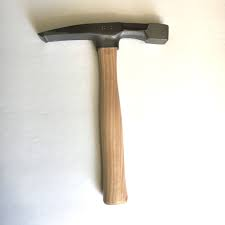hammer: (37, 22, 170, 205)
